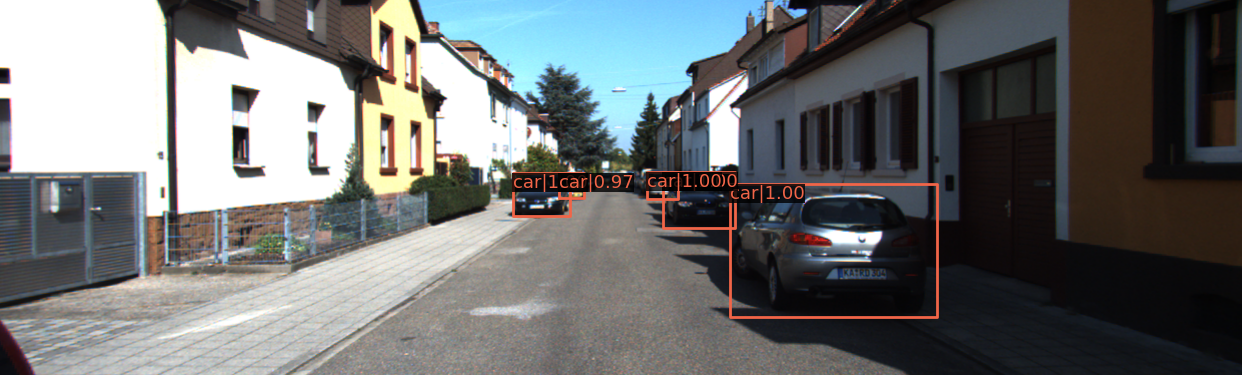car: (733, 185, 931, 321), (665, 177, 733, 231), (515, 177, 568, 222), (647, 172, 680, 201), (555, 175, 584, 201)
